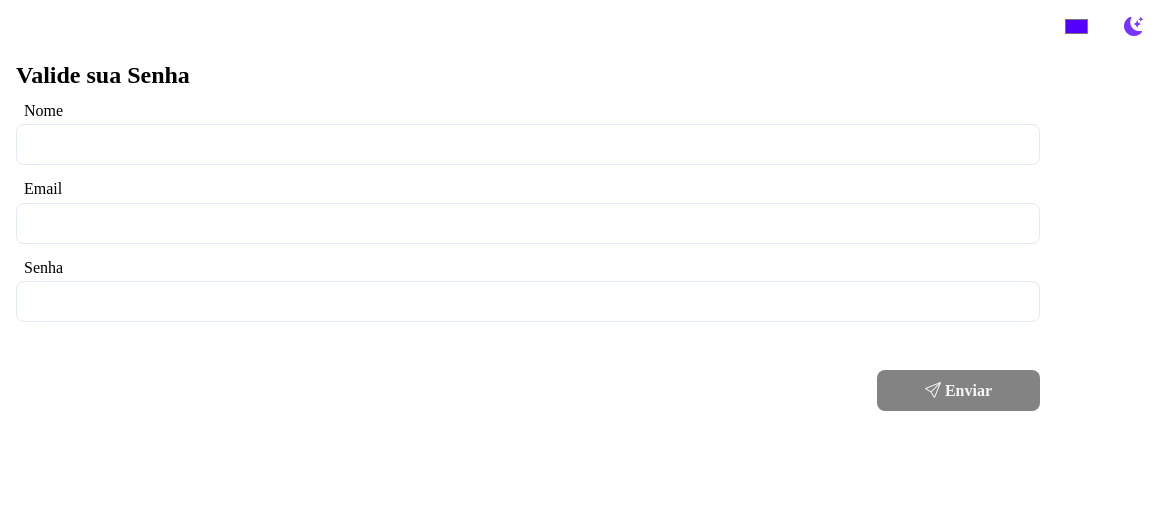
Scenario: Teste End to End › Senha está inválida: Falha no Preenchimento
Type "João" into the field with id "field-input-name" at (528, 145), box left=16, top=124, right=1040, bottom=165
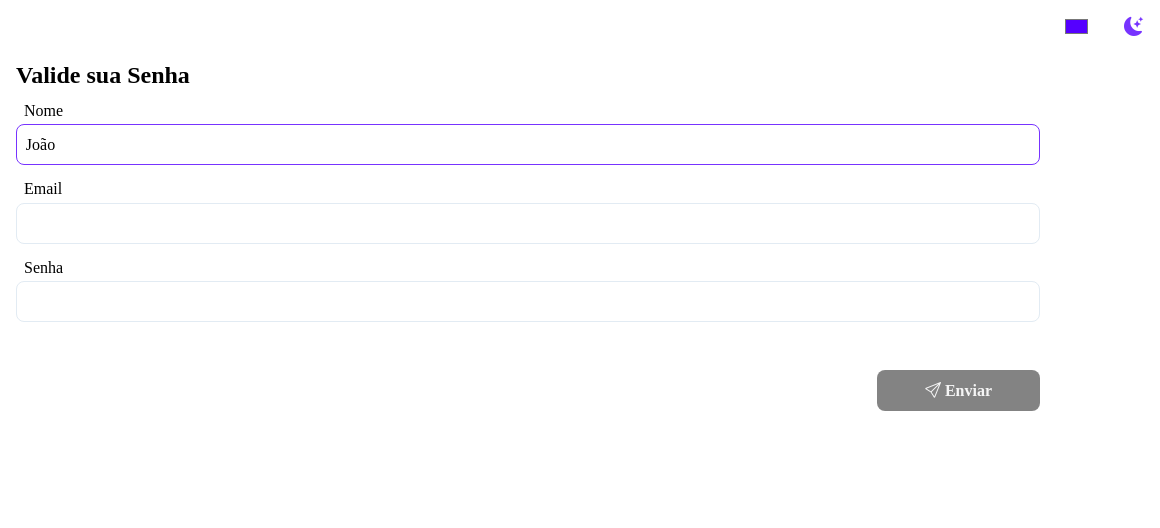
Type "joao@example.com.br" into the field with id "field-input-email" at (528, 224), box left=16, top=203, right=1040, bottom=244
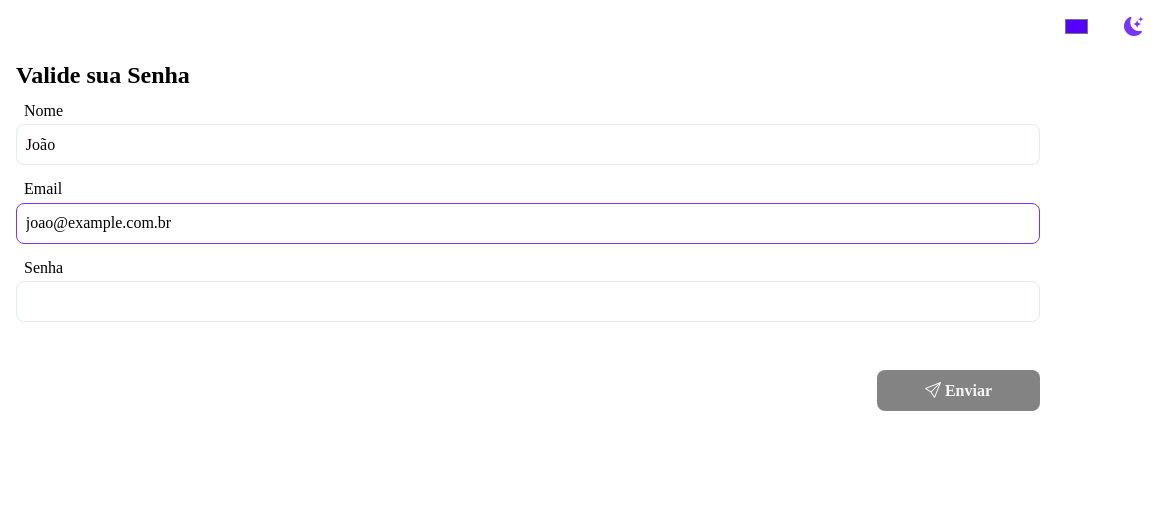
Type "54321" into the number field with id "field-input-password" at (528, 302), box left=16, top=281, right=1040, bottom=322
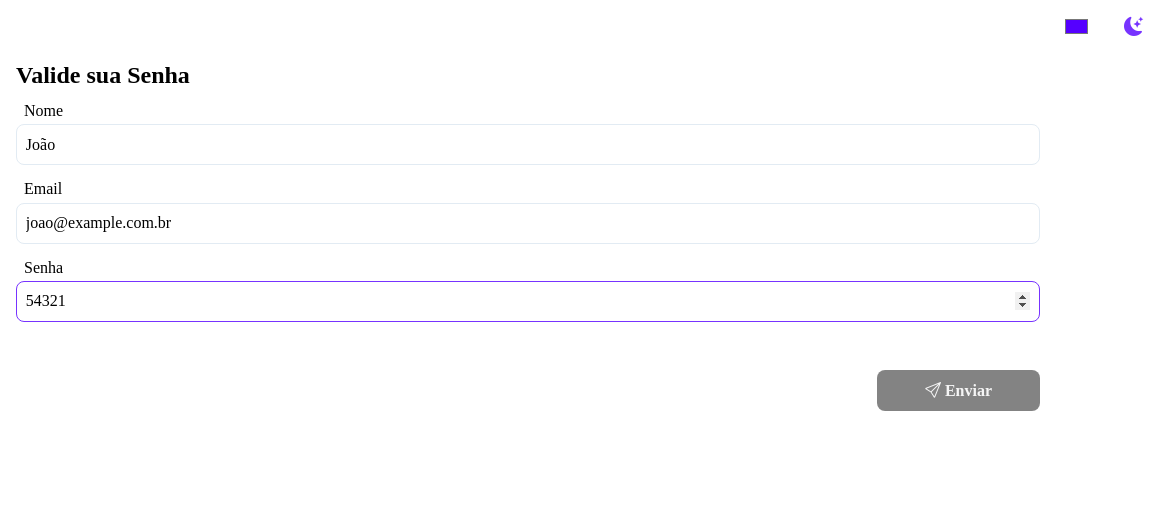
Press Tab
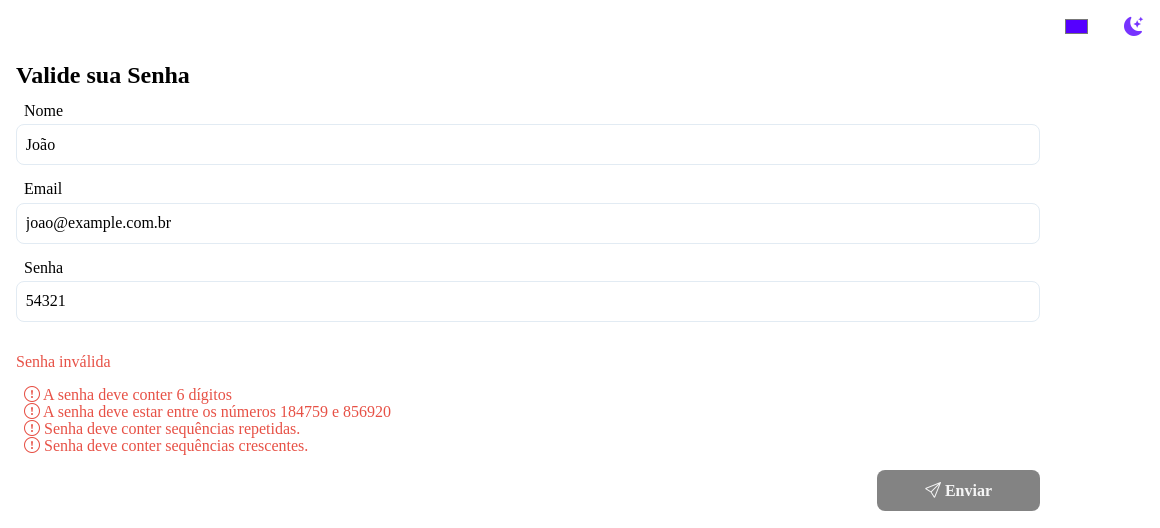
Result: the text "Senha inválida" is shown at left=16, top=353, right=111, bottom=370
